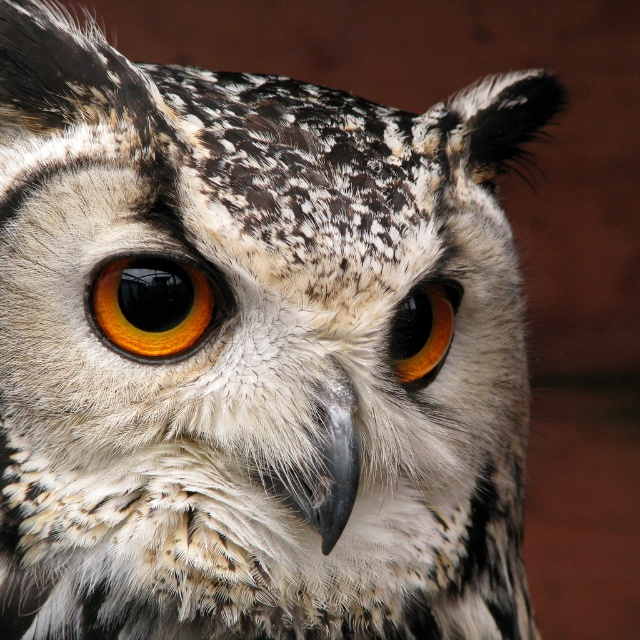Owl: (0, 0, 576, 640)
